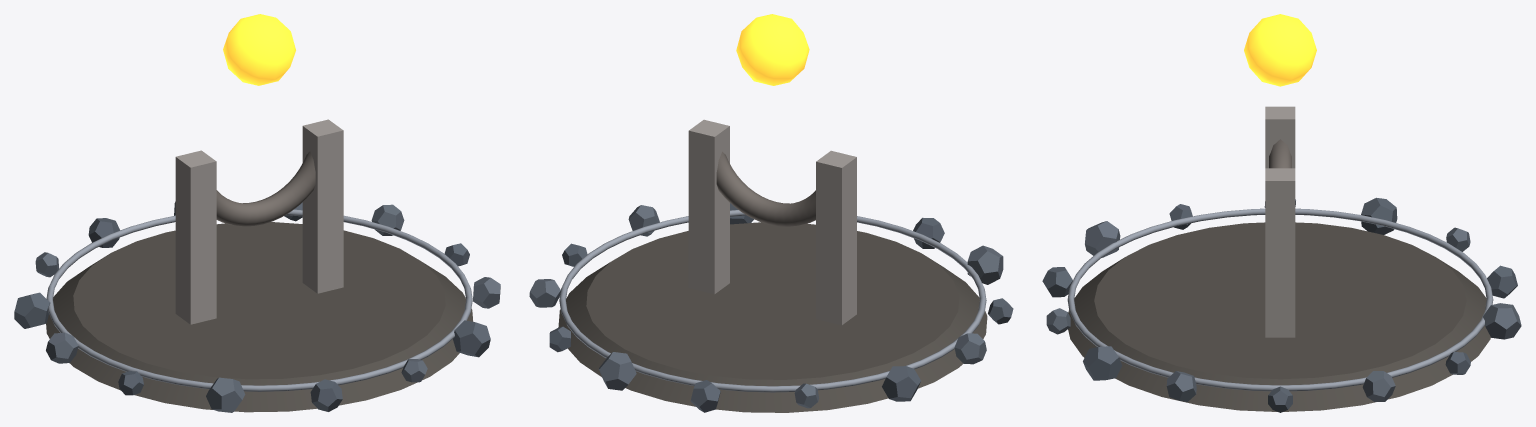
The model's file is unit04.glb.
3 renders of one model, left to right at view 1: azimuth 30°, elevation 25°; view 2: azimuth 150°, elevation 25°; view 3: azimuth 270°, elevation 25°, orthographic.
Visible parts, largest first — view 1: rw3_unit04_arch, Crystal; view 2: rw3_unit04_arch, Crystal; view 3: rw3_unit04_arch, Crystal.
Boxes of the visible parts, box(x1,y1,x2,y2) form: rw3_unit04_arch: box(14, 119, 500, 412); Crystal: box(223, 14, 295, 85); rw3_unit04_arch: box(529, 119, 1013, 412); Crystal: box(736, 14, 809, 85); rw3_unit04_arch: box(1042, 106, 1521, 412); Crystal: box(1244, 14, 1316, 86).
Size of the model in its own units: 7.24 by 5.05 by 7.2.
